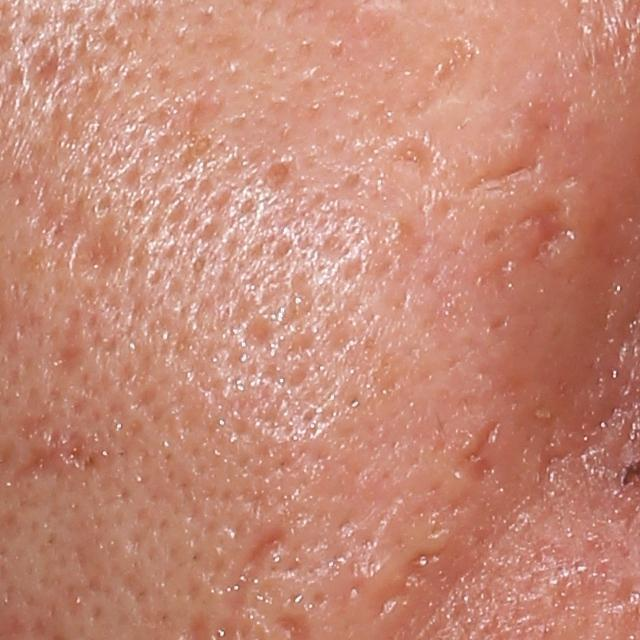atrophic_scar: (403, 35, 473, 123), (7, 435, 112, 488), (456, 151, 552, 200), (444, 420, 504, 494), (513, 193, 569, 264), (67, 220, 127, 286), (223, 528, 288, 586), (178, 87, 232, 137), (386, 131, 435, 177), (51, 309, 83, 377), (23, 42, 64, 94), (371, 582, 411, 619), (241, 309, 275, 352), (258, 155, 290, 194)
